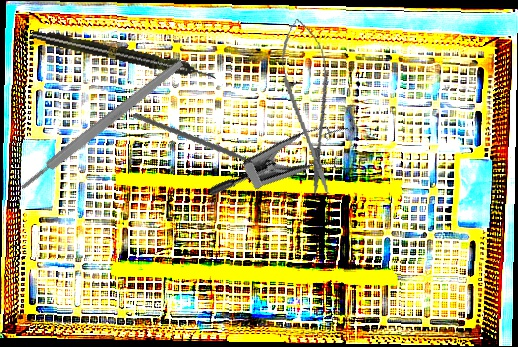Chopper: (132, 93, 265, 198)
Handpiece: (30, 26, 218, 85)
Micro Scissor: (274, 16, 345, 198)
Scalpel Handle: (17, 57, 186, 193)
Speculum: (207, 94, 378, 249)
